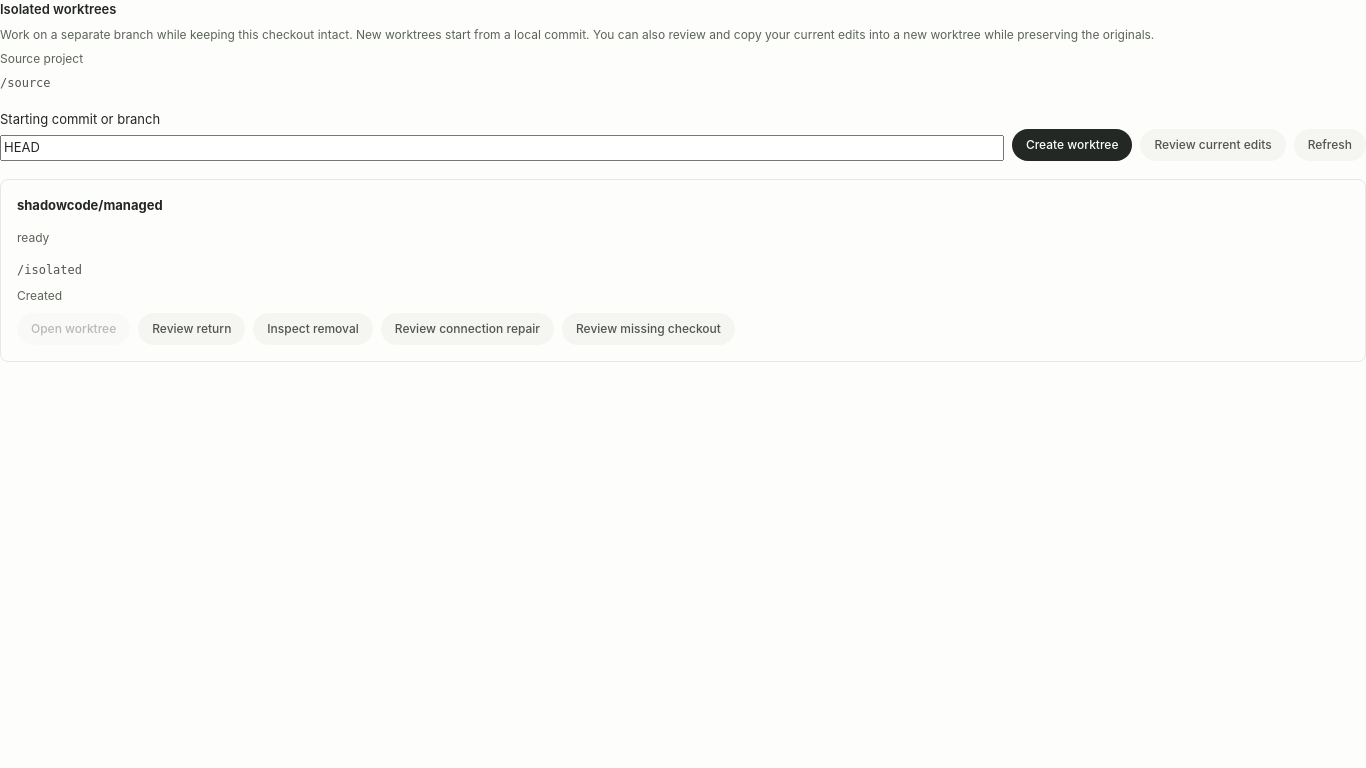
Test case: reviews separate staged and unstaged edits and rejects a stale copy
Check: the text "shadowcode/managed" is shown, box [17,196,163,212]
Click the button "Review current edits" at (1213, 144), box [1140,128,1286,160]
(page scrolled)
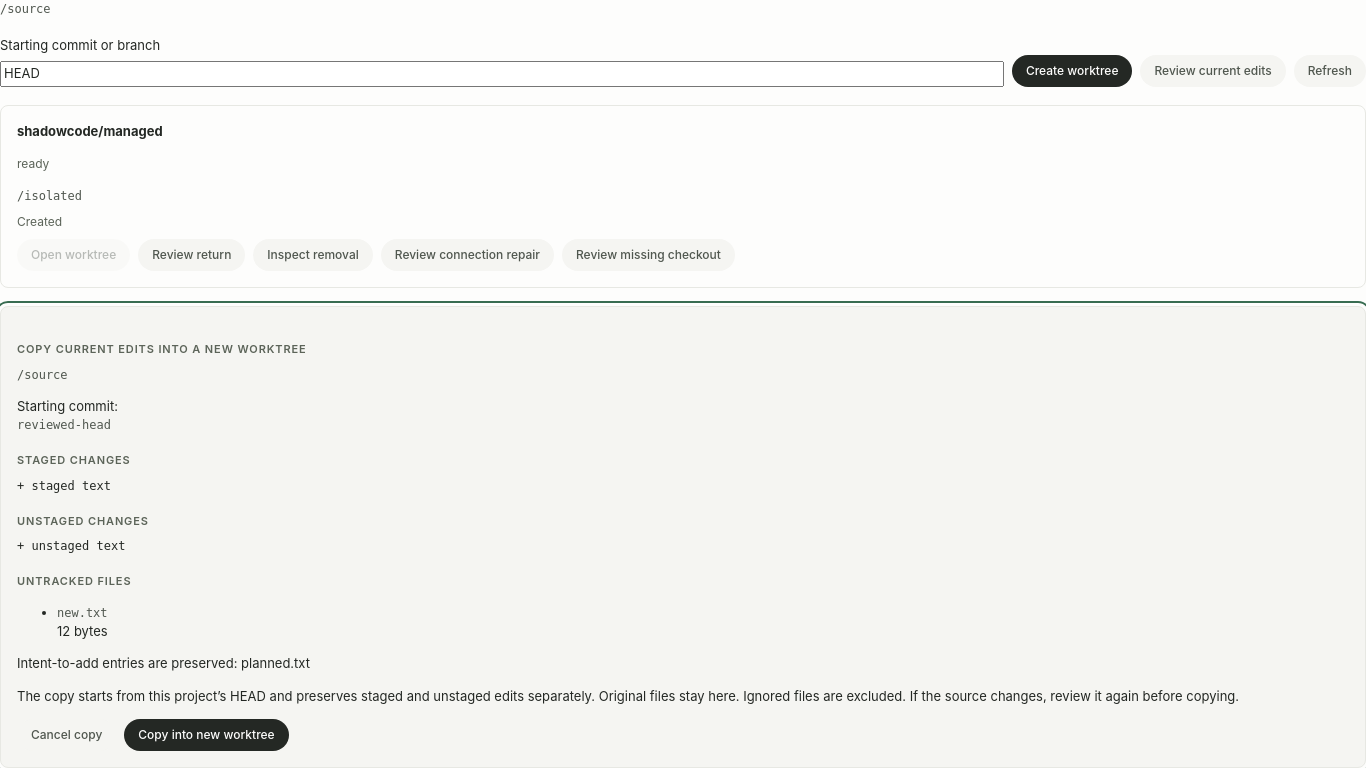
Check: the text named "Staged copy diff" reads "+ staged text", box [17,478,111,492]
Check: the text named "Unstaged copy diff" reads "+ unstaged text", box [17,539,125,553]
Check: the text "new.txt" is shown, box [57,606,108,620]
Click the button "Copy into new worktree" at (206, 735), box [124,719,289,751]
(page scrolled)
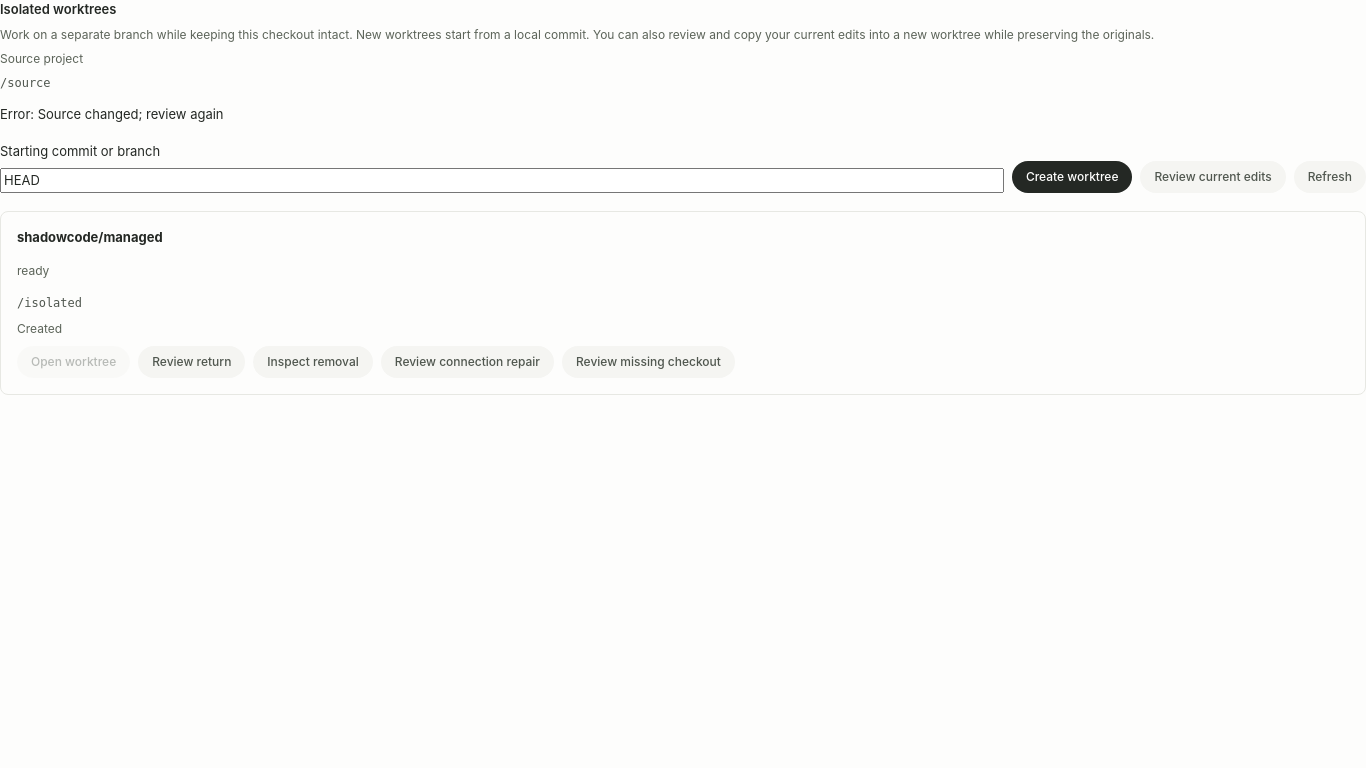
Check: the message "Error: Source changed; review again" is shown, box [0,106,224,122]
